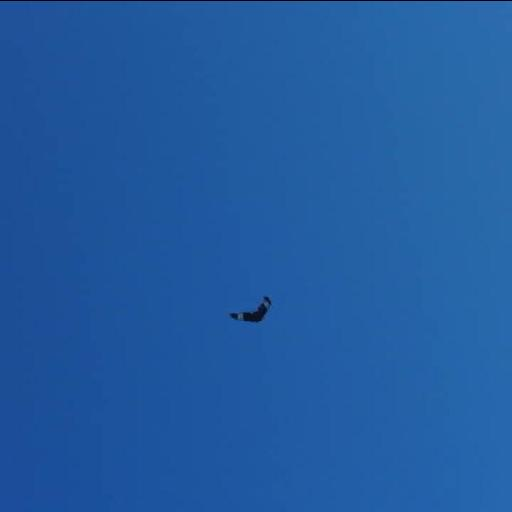uav: (226, 290, 282, 324)
